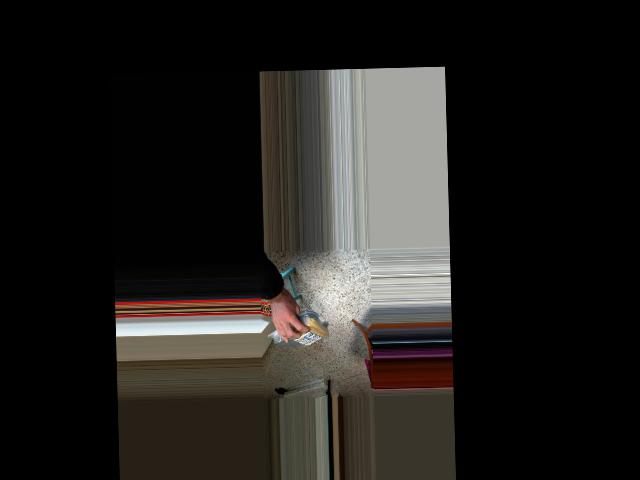cheese: (267, 316, 329, 348)
